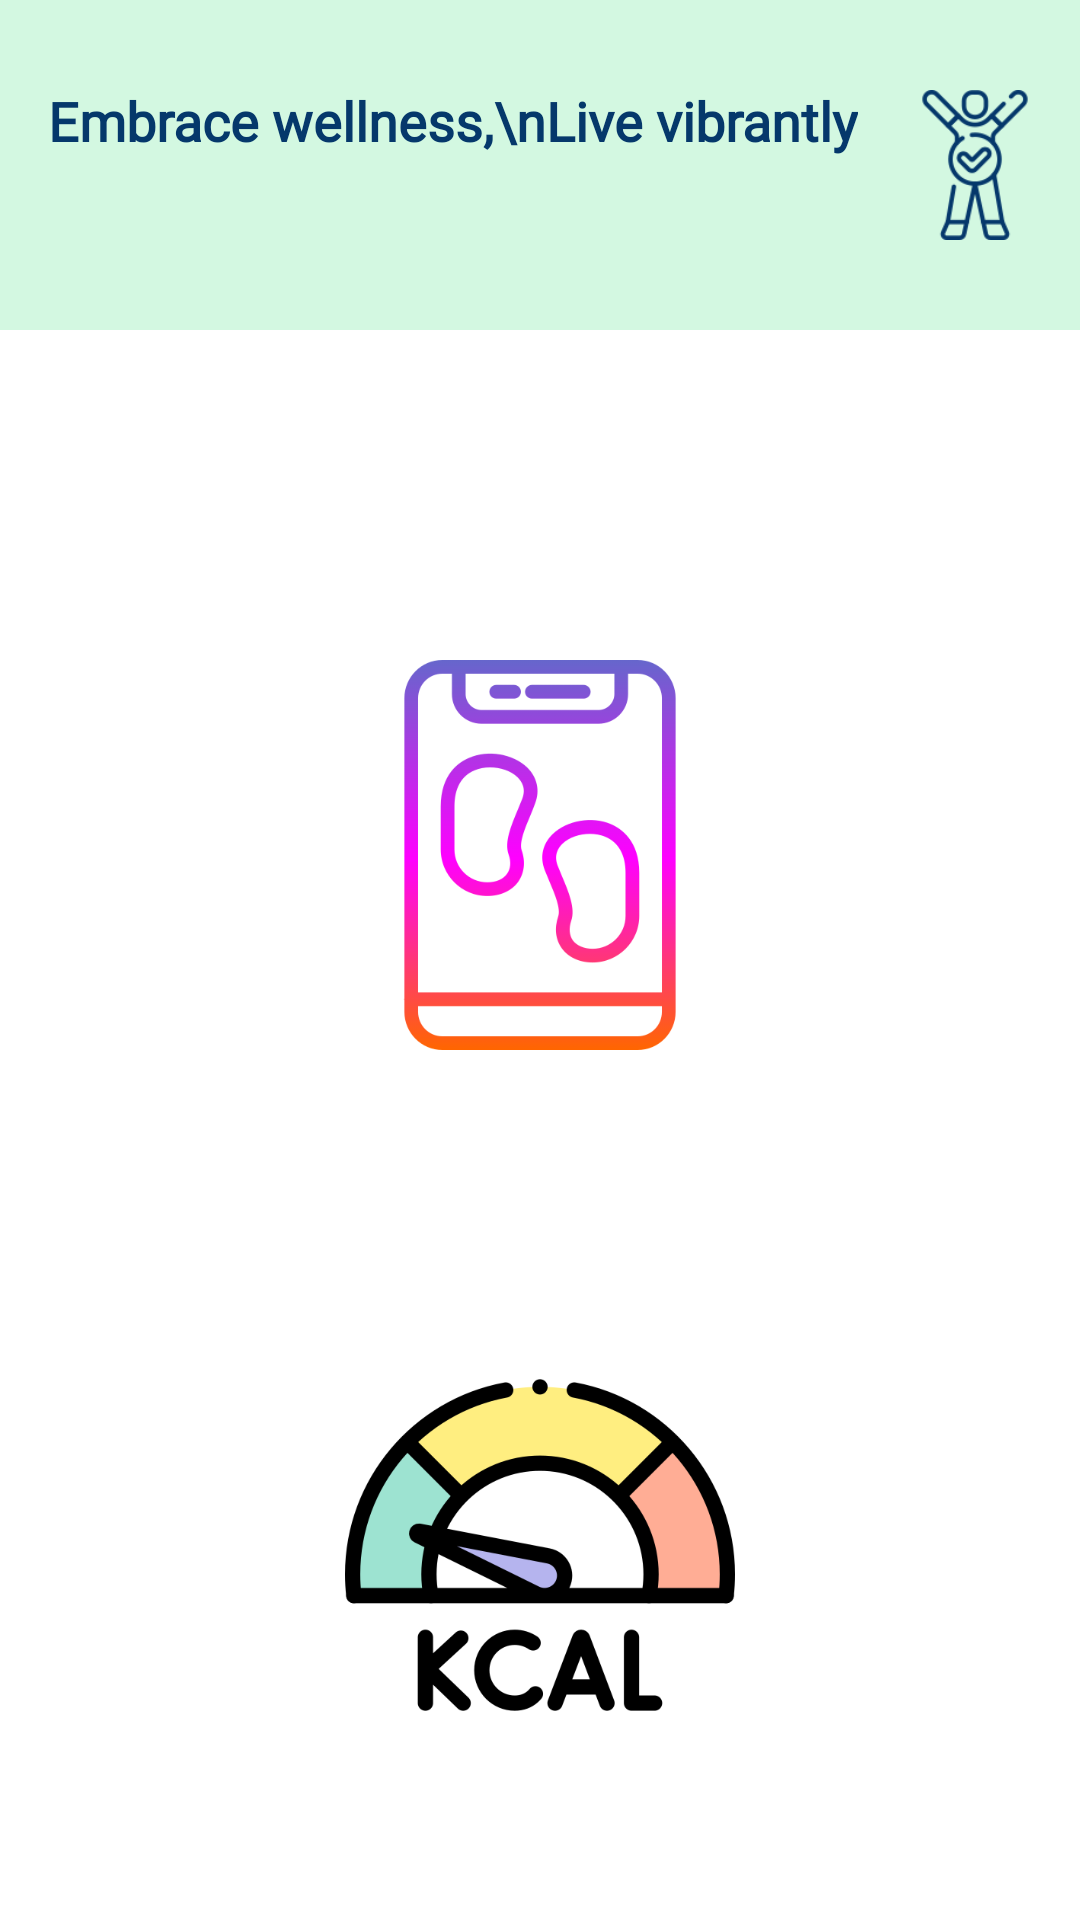

Point at icon controls on the screen. Image size 1080 x 1920, points as [x,y].
healthy: [975,165]
